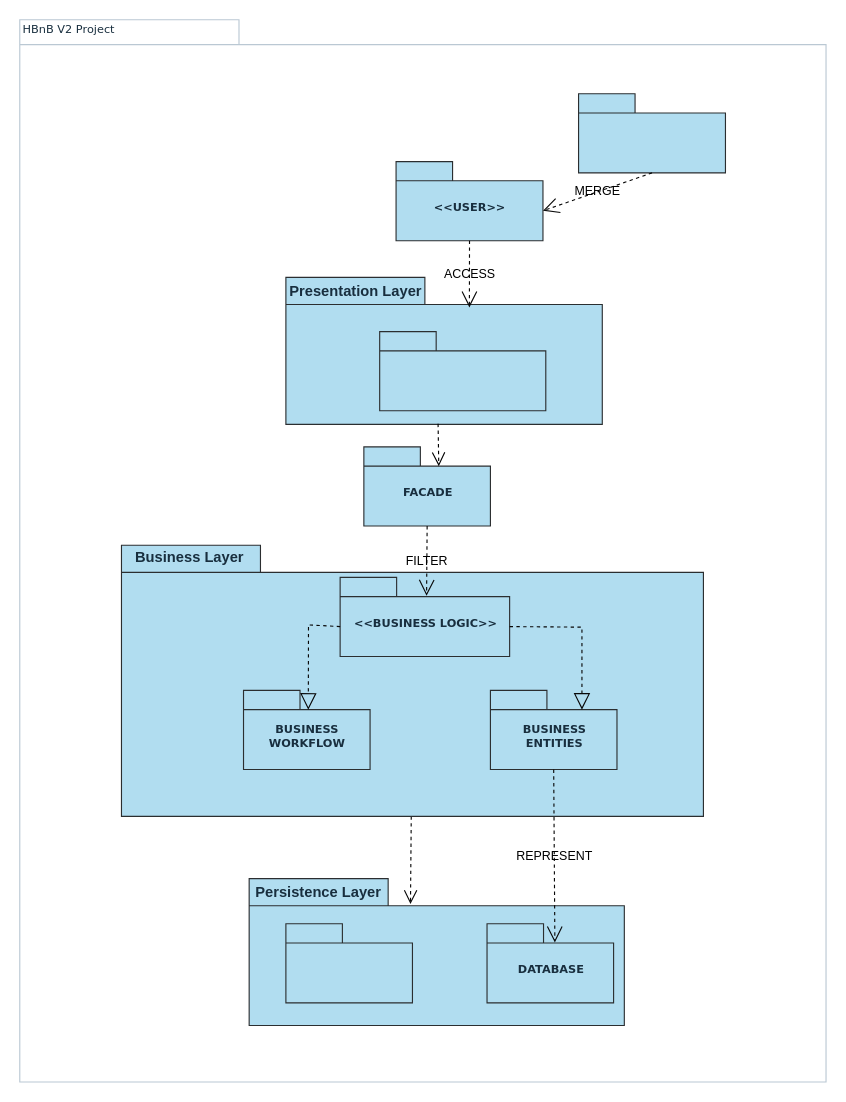
Image size: 846x1102. Some labels were removed from this diagram. Here are the shapes that lost their labels. From the top down, the centre of each, then its label:
the point at 651,133: HOST
the point at 462,371: <<USER INTERFACE>>
the point at 348,963: RESOURCES
